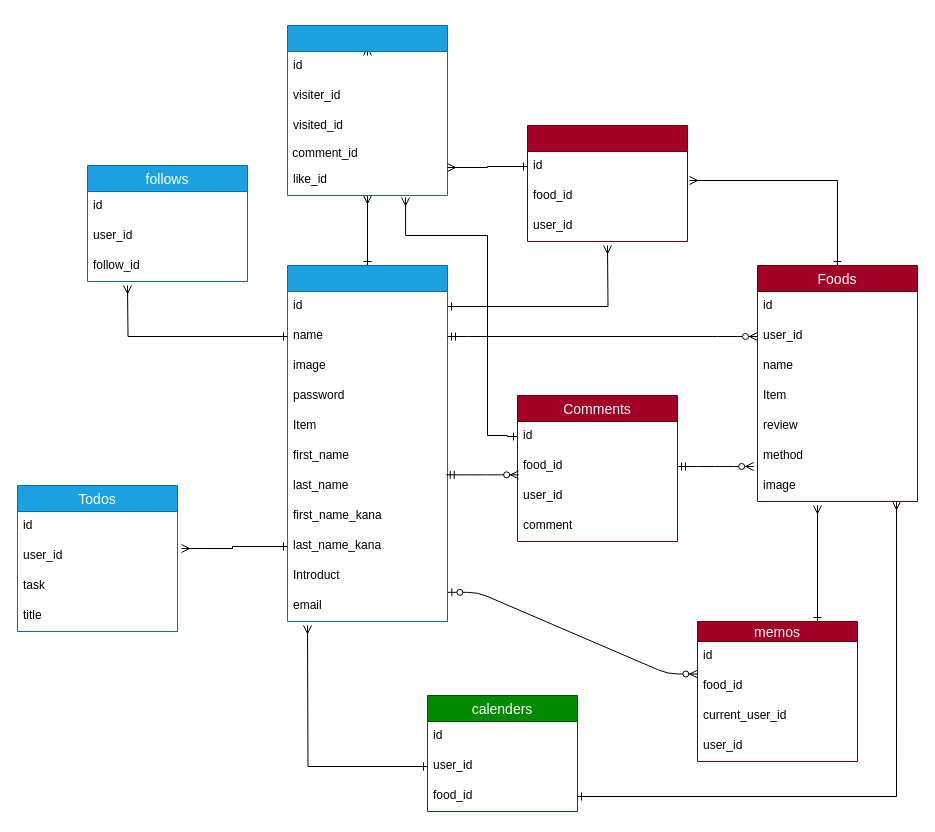
The diagram is 935 pixels wide and 832 high, and some of its shapes have lost their labels. The shapes that lost their labels are listed below. From the top down, each one's box as (x1, y1, x2, y2) in pixels, then its label:
(286, 24, 448, 196): Notifications
(526, 124, 688, 242): Likes
(286, 264, 448, 622): Users
